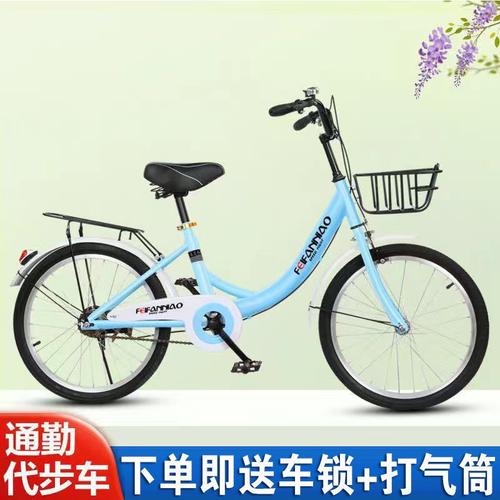单车: (7, 83, 497, 429)
